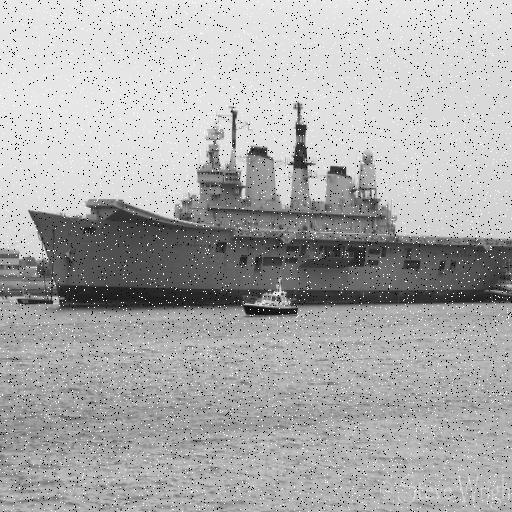Portanaves: (29, 93, 512, 312)
